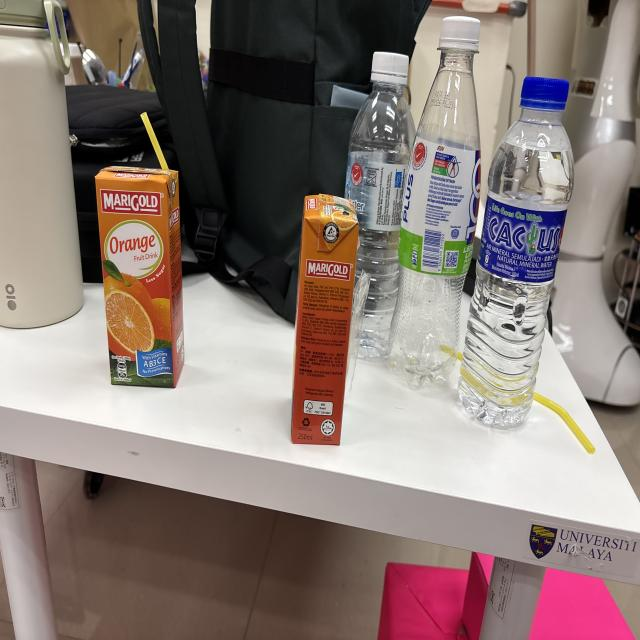drink_carton: (88, 104, 191, 404), (285, 171, 359, 460)
plastic_bottle: (450, 58, 580, 446), (380, 2, 490, 411), (341, 48, 422, 373)
